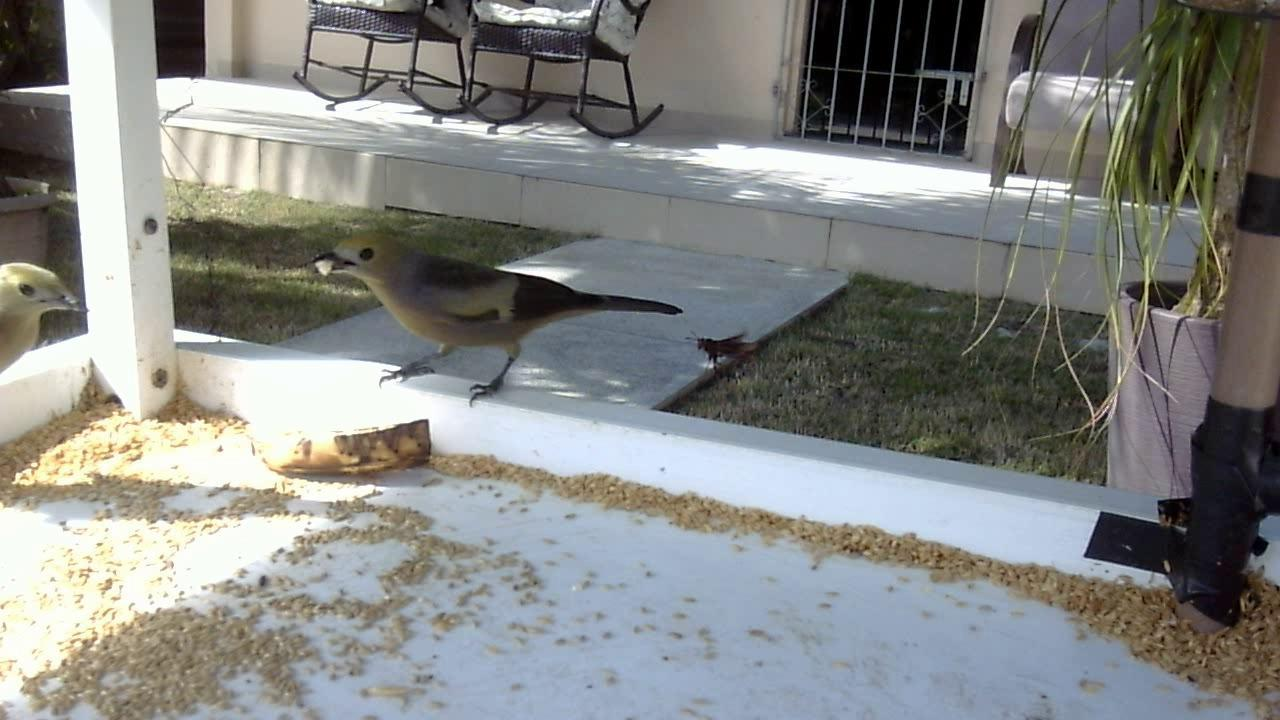sanhaco_do_coqueiro: (299, 217, 690, 422), (1, 256, 85, 387)
